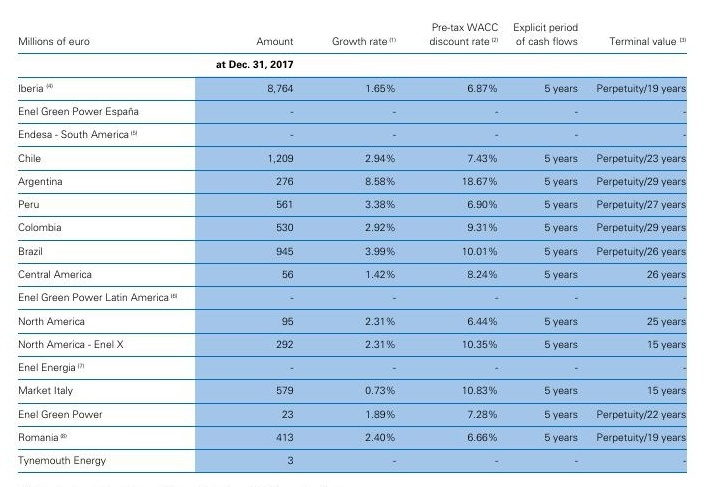table: (0, 0, 705, 487)
